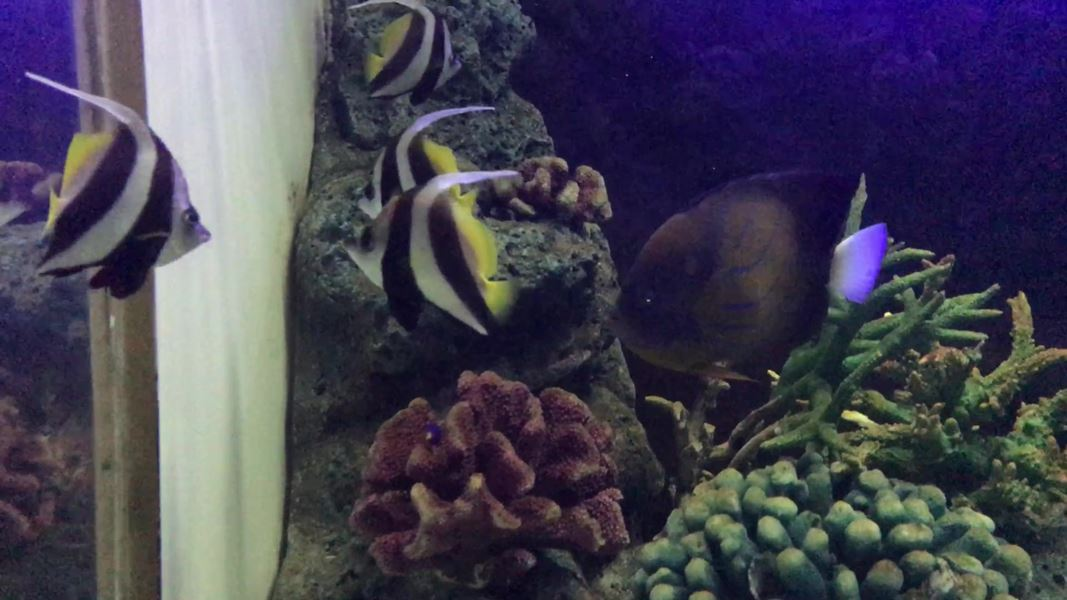Blue ring angelfish: (582, 144, 906, 417)
